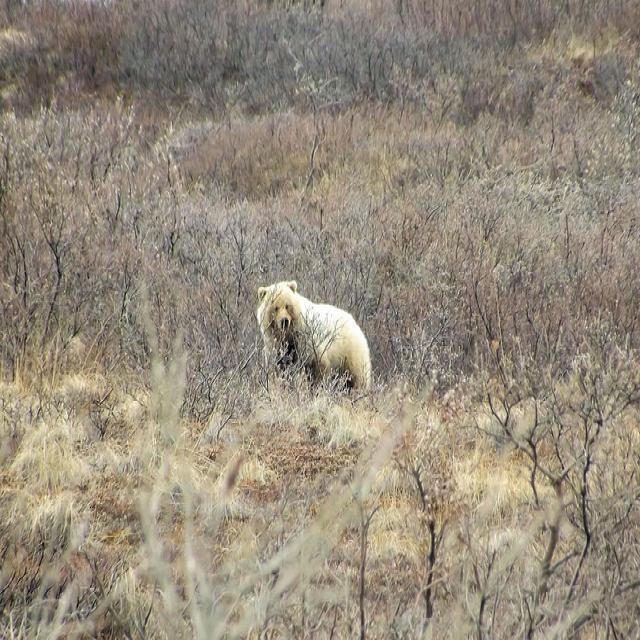Bear: (252, 275, 372, 392)
